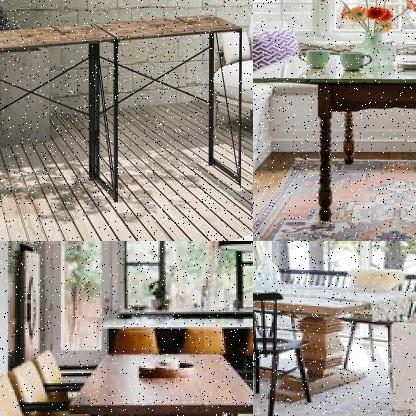table: (0, 6, 246, 226), (253, 33, 415, 232), (253, 273, 415, 407), (61, 347, 252, 415)
